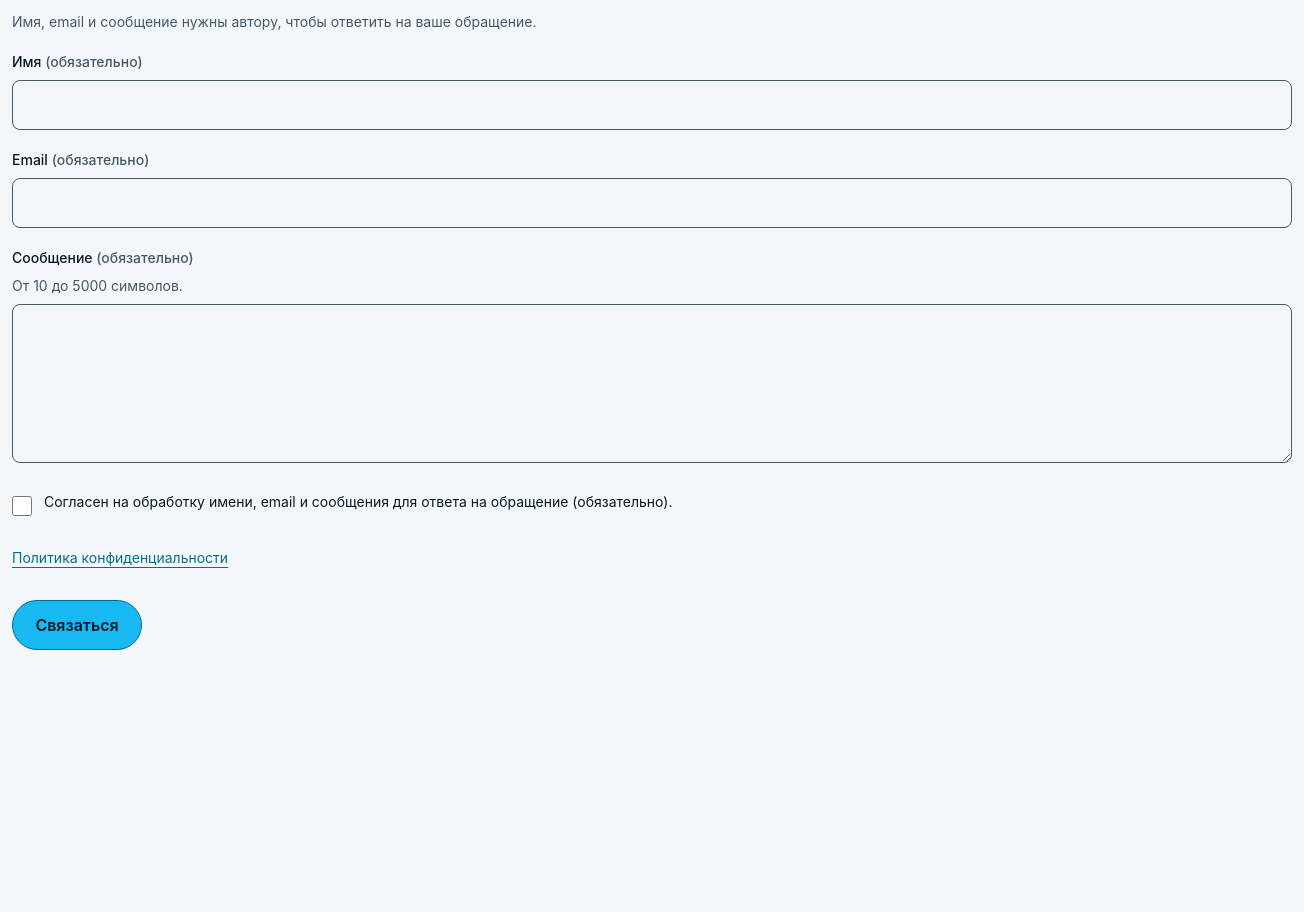
Test case: public forms › submits contact and focuses only a confirmed success
Step 1. Type "reader@example.com" into the field labelled "Email (обязательно)" → (652, 203), box [12, 178, 1292, 228]
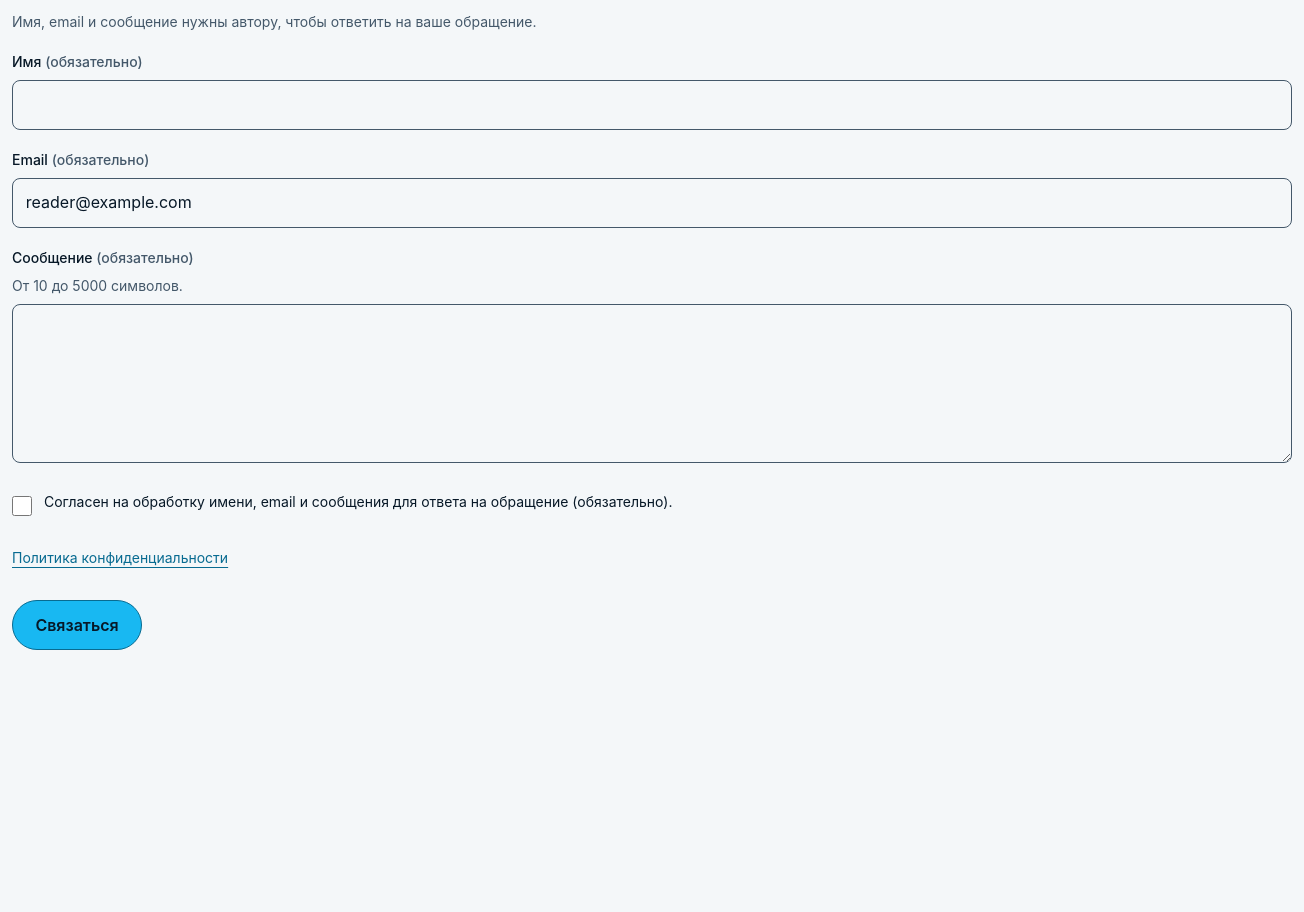
Step 2. Type "  Читатель  " into the field labelled "Имя (обязательно)" → (652, 105), box [12, 80, 1292, 130]
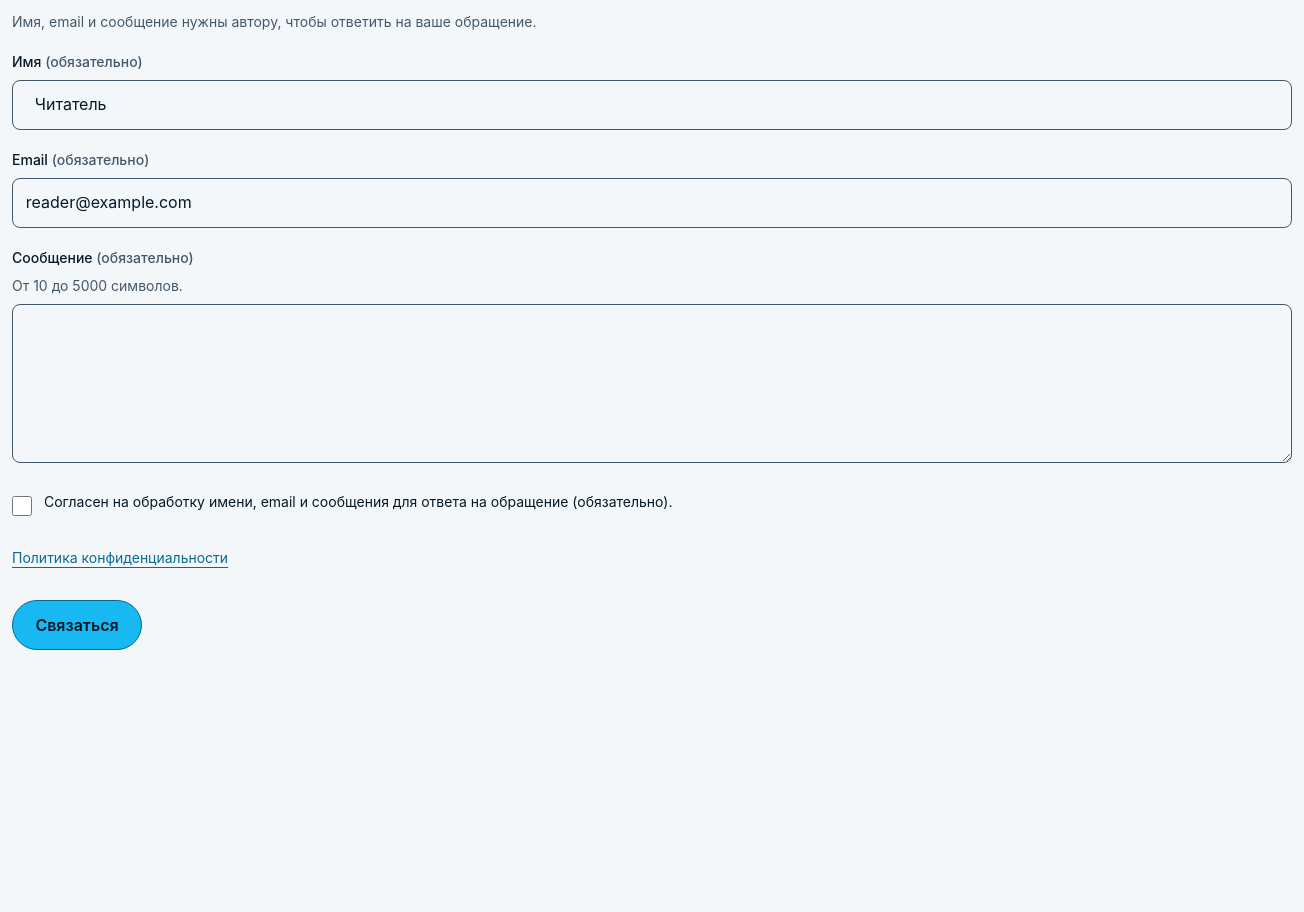
Step 3. Type "  Обсудим проект и статью.  " into the text box labelled "Сообщение (обязательно)" → (652, 383), box [12, 304, 1292, 463]
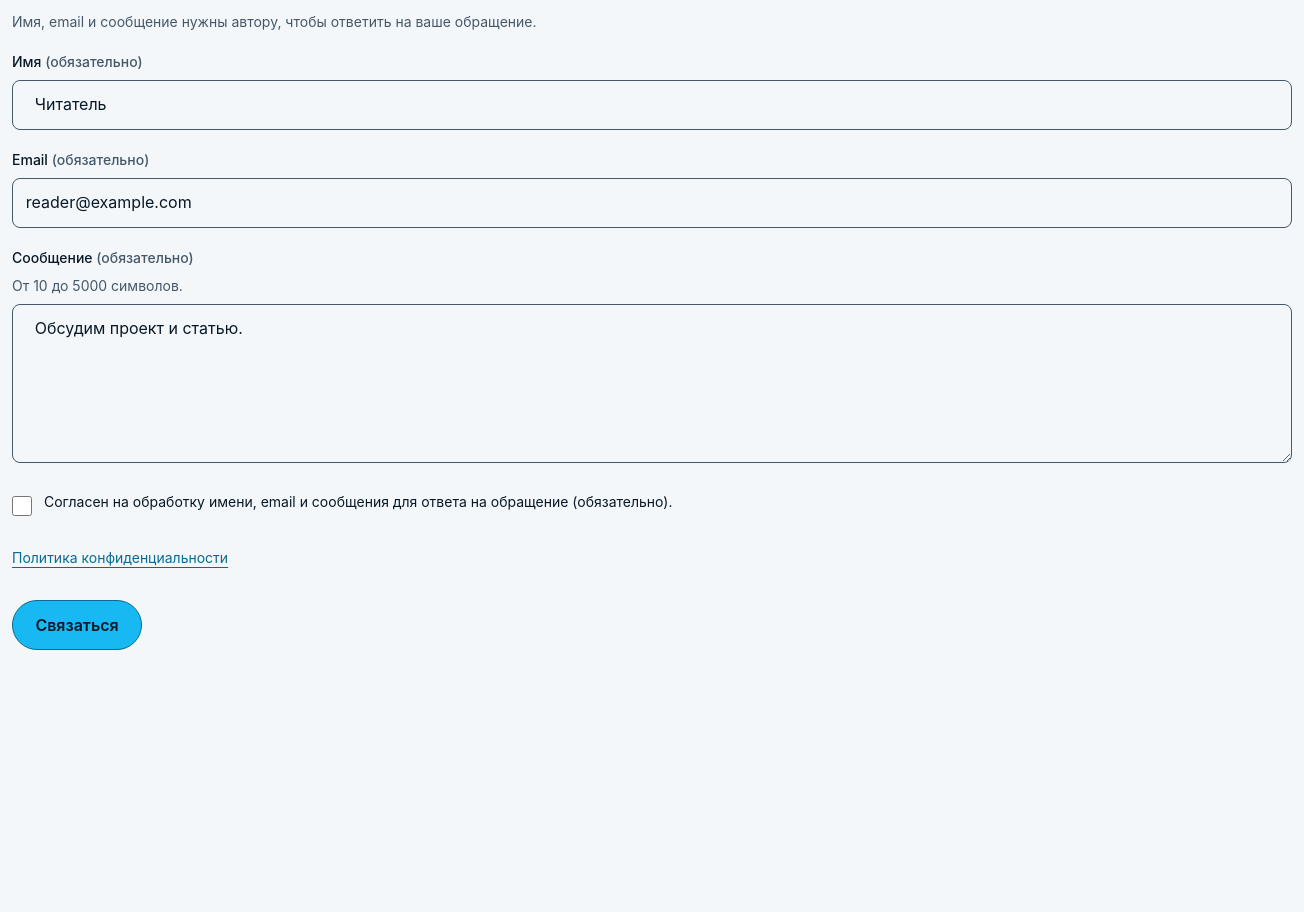
Step 4. Click the checkbox → (22, 506), box [12, 496, 32, 516]
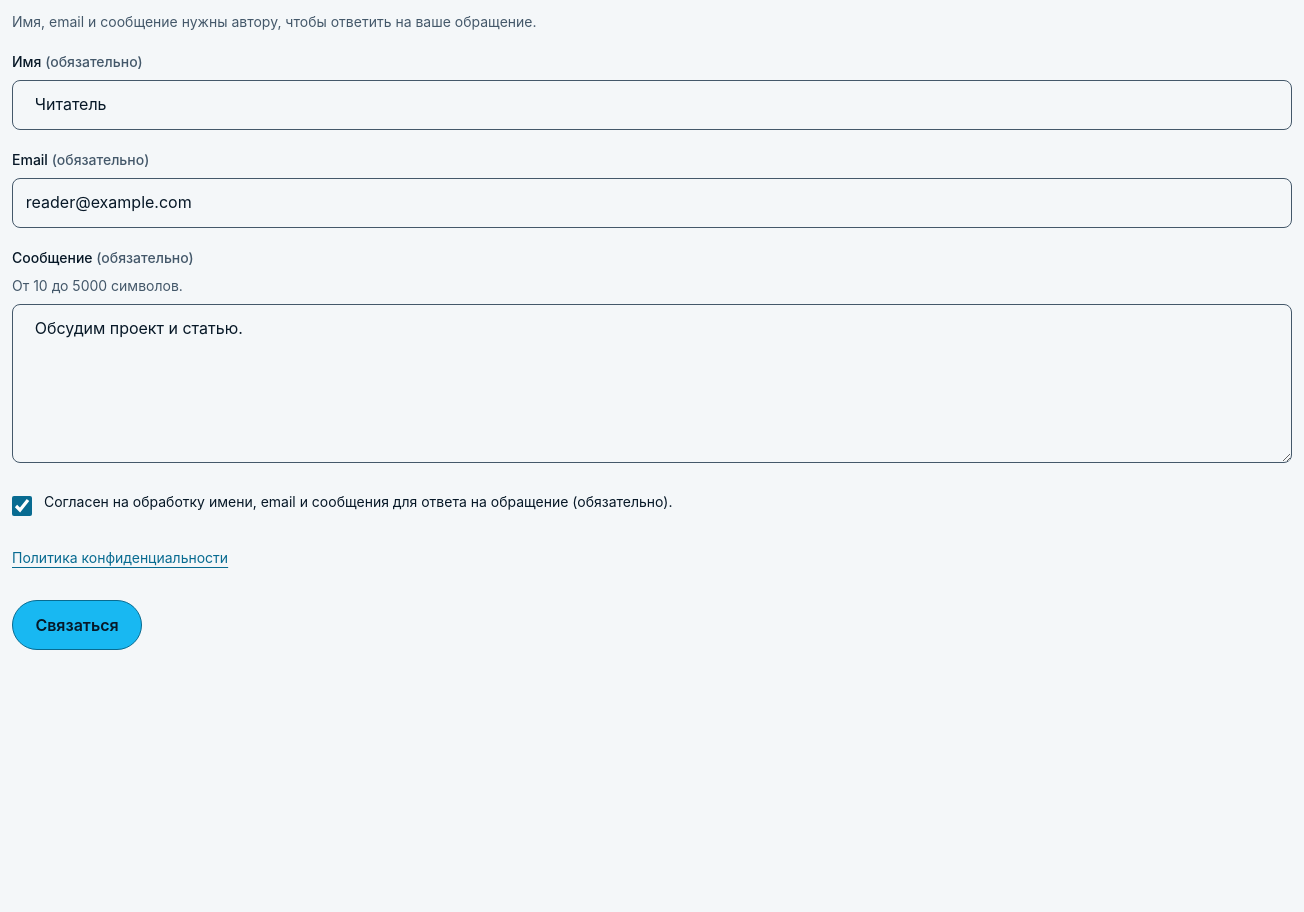
Step 5. Click the button → (77, 625), box [12, 600, 142, 650]
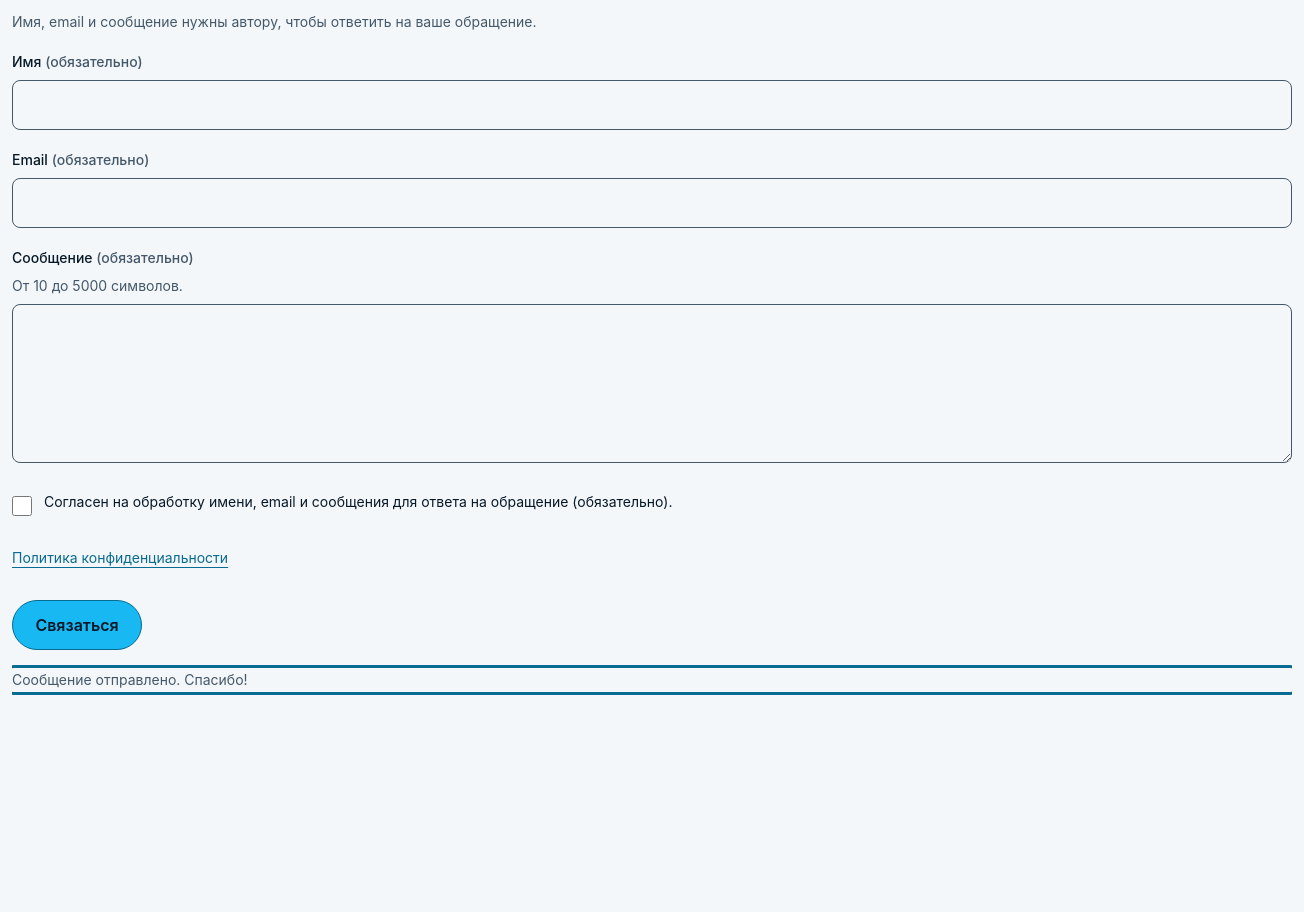
expect the checkbox is not checked: met, box [12, 496, 32, 516]
expect the message shows "Спасибо": met, box [12, 671, 248, 688]
expect the field labelled "Email (обязательно)" is empty: met, box [12, 178, 1292, 228]
